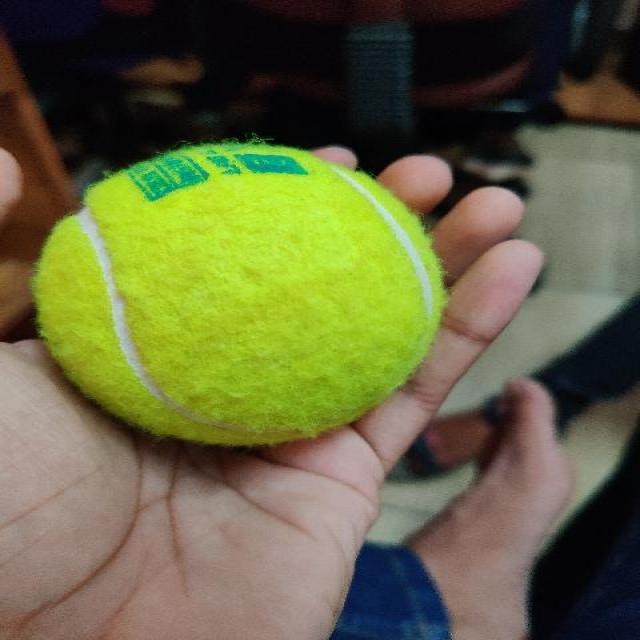tennis-ball: (37, 145, 443, 443)
